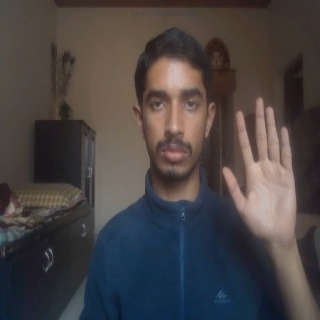Face: (130, 27, 218, 183)
Hello: (220, 95, 299, 247)
